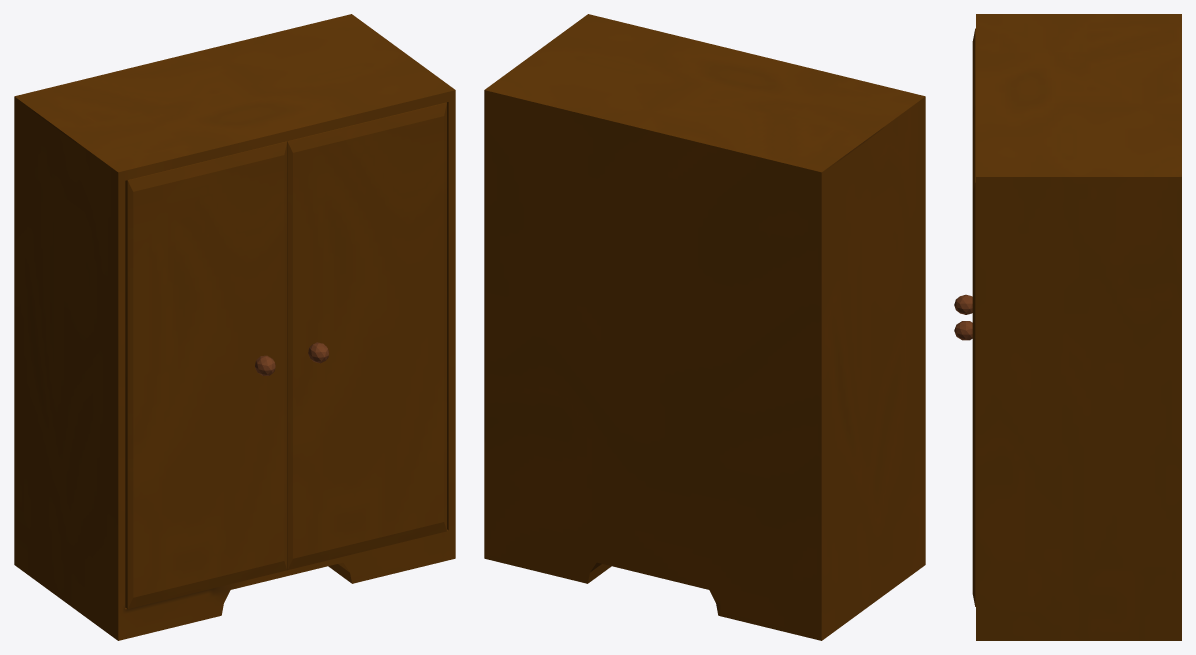
File: Dresser.fbx
The picture shows the model from 3 angles, left to right: view 1: azimuth 30°, elevation 25°; view 2: azimuth 150°, elevation 25°; view 3: azimuth 270°, elevation 25°; orthographic projection.
Visible parts, largest first — view 1: Cube.030, Cube.032, Cube.035; view 2: Cube.030; view 3: Cube.030, Cube.035, Cube.032.
Part boxes in pixels (x1=…): Cube.030: x1=14, y1=14, x2=455, y2=640; Cube.032: x1=125, y1=141, x2=287, y2=608; Cube.035: x1=287, y1=102, x2=446, y2=570; Cube.030: x1=484, y1=14, x2=925, y2=640; Cube.030: x1=976, y1=14, x2=1181, y2=640; Cube.035: x1=954, y1=105, x2=975, y2=606; Cube.032: x1=954, y1=28, x2=975, y2=314.
Bounding box in the file's own units: 150 × 199 × 88.51.
